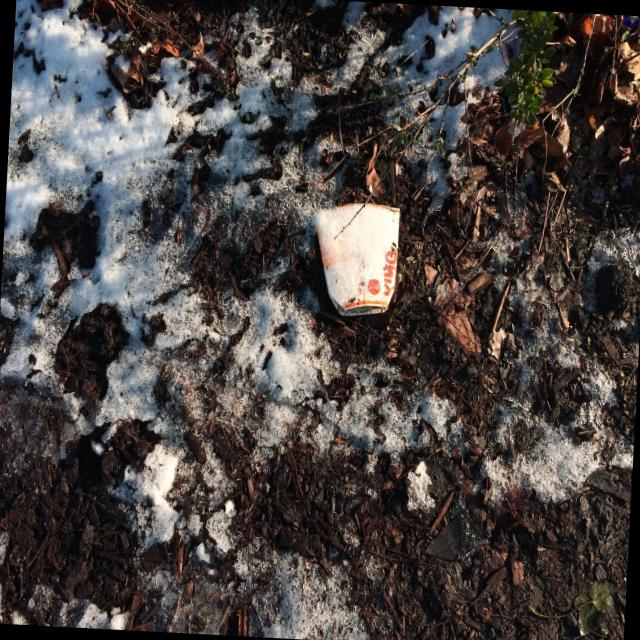less trash: (314, 203, 400, 317)
